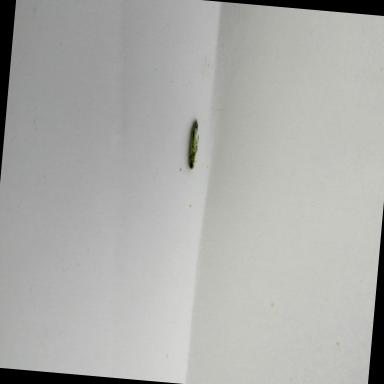pbw: (188, 120, 200, 172)
